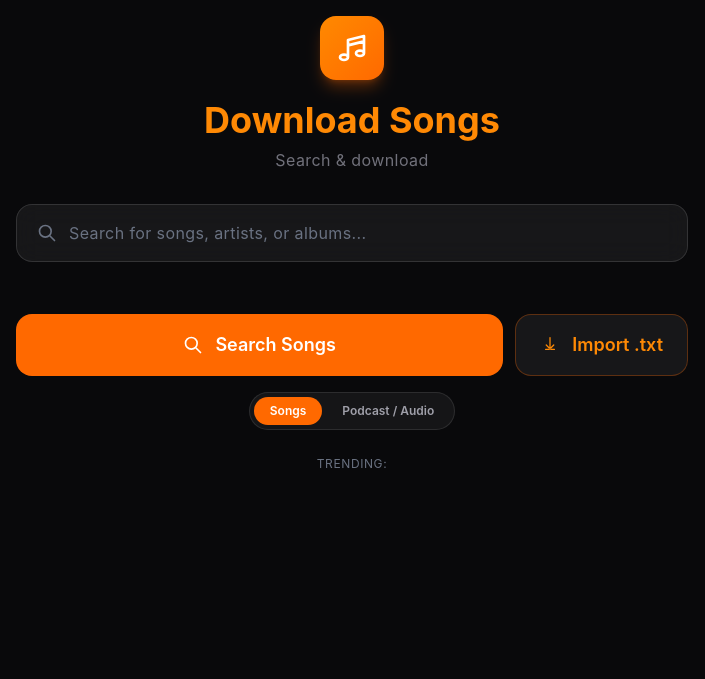
Test: Download search › submits only one job for a same-tick double click
Type "Midnight City" into the field with placeholder "Search for songs, artists, or albums..." at [378, 233], box x1=69 y1=205 x2=687 y2=261
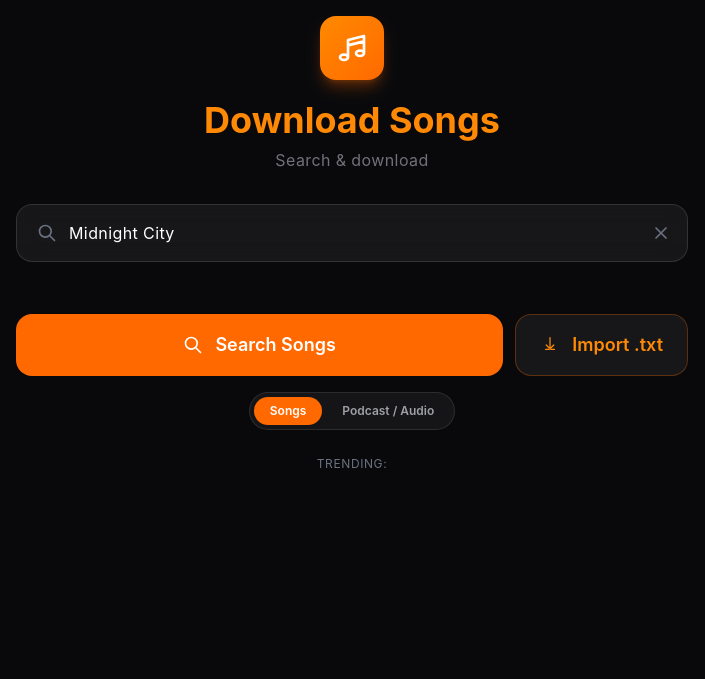
Click the button "Search Songs" at [260, 345], box x1=16 y1=314 x2=503 y2=376
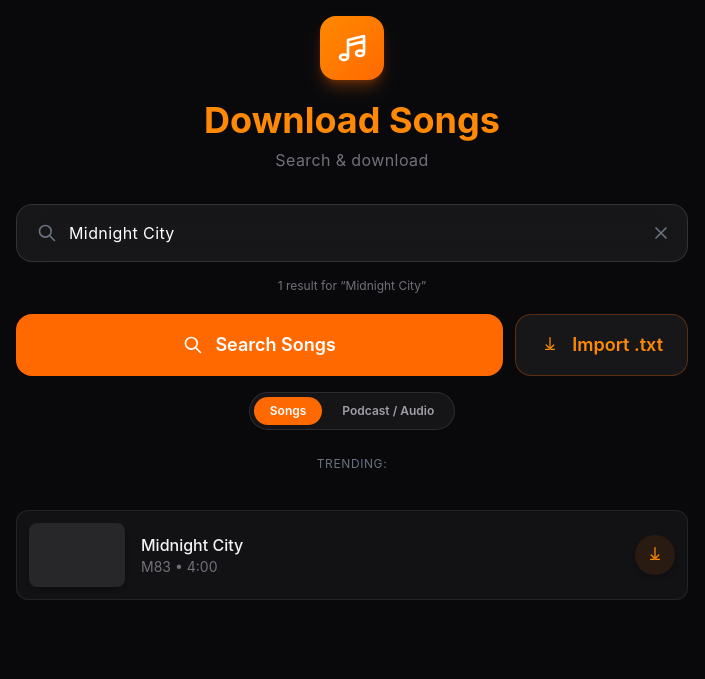
Click the button named "Download Midnight City" at [655, 555], box x1=635 y1=535 x2=675 y2=575
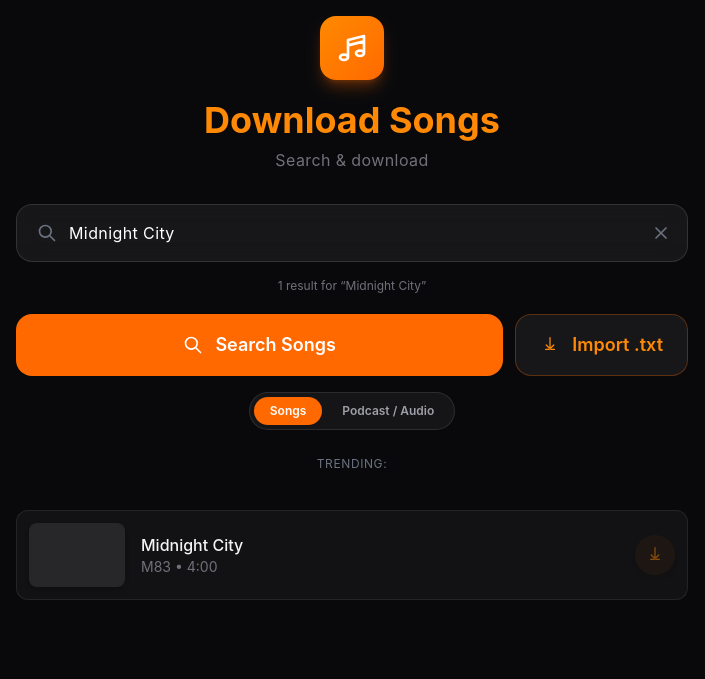
Click the button named "Download Midnight City" at [655, 555], box x1=635 y1=535 x2=675 y2=575
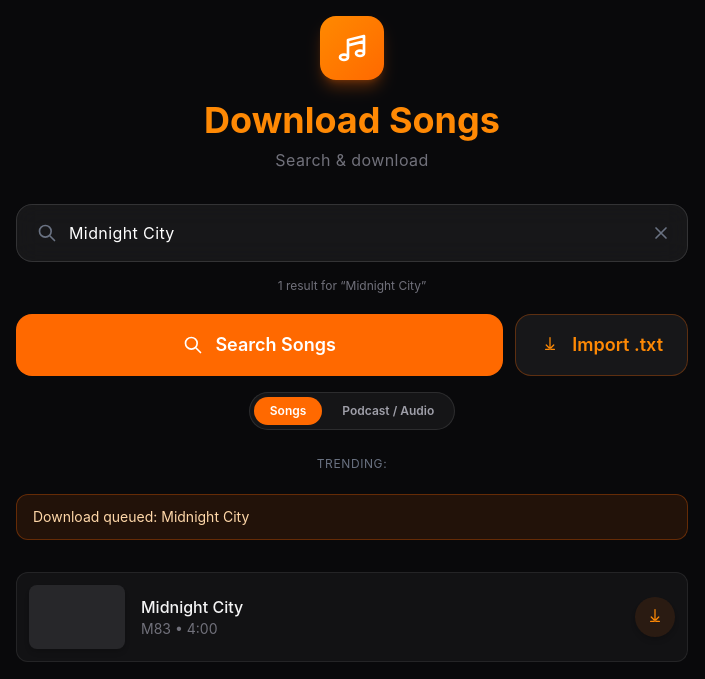
expect the text "Download queued: Midnight City" is shown: met, box x1=16 y1=494 x2=688 y2=540
